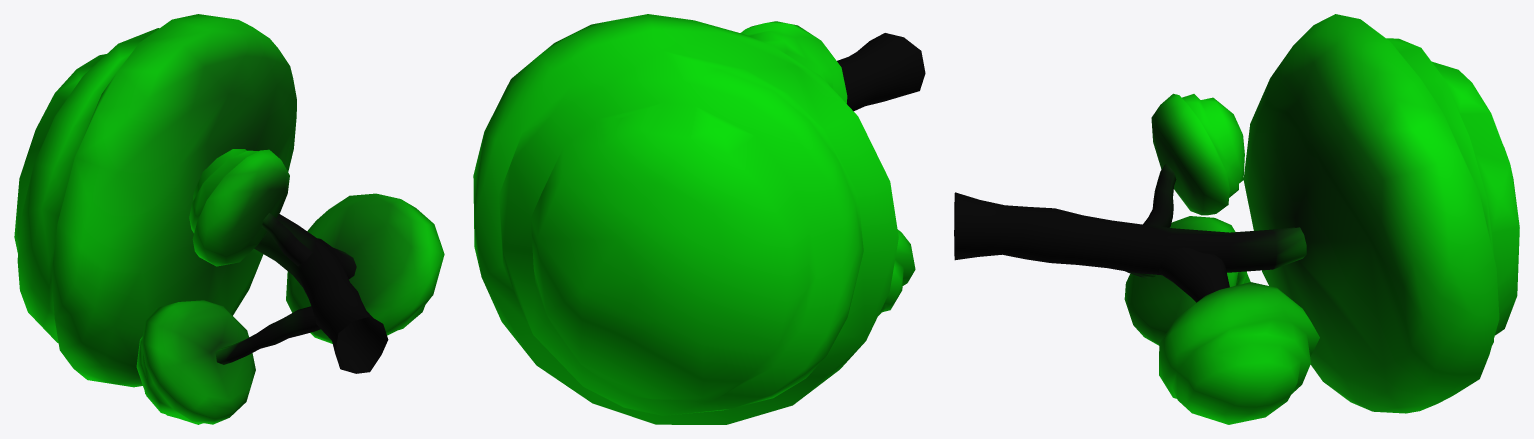
File: Tree_01.fbx
3 renders of one model, left to right at view 1: azimuth 30°, elevation 25°; view 2: azimuth 150°, elevation 25°; view 3: azimuth 270°, elevation 25°, orthographic. The views are drawn at different scales.
Parts seen in each view (by area): view 1: Tree_01_LOD0; view 2: Tree_01_LOD0; view 3: Tree_01_LOD0.
Part boxes in pixels (bbox=[...]): Tree_01_LOD0: bbox=[14, 14, 444, 424]; Tree_01_LOD0: bbox=[473, 14, 925, 424]; Tree_01_LOD0: bbox=[954, 14, 1519, 424].
Size of what is drawn, in the model's own units: 8.2 by 7.67 by 10.57.
